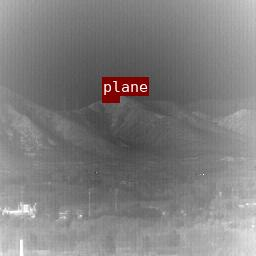plane: (102, 96, 119, 102)
